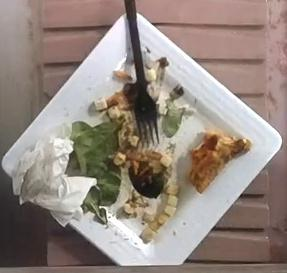croutons: (114, 149, 178, 243)
lettuce: (66, 122, 121, 223)
pizza_crust: (189, 131, 238, 193)
